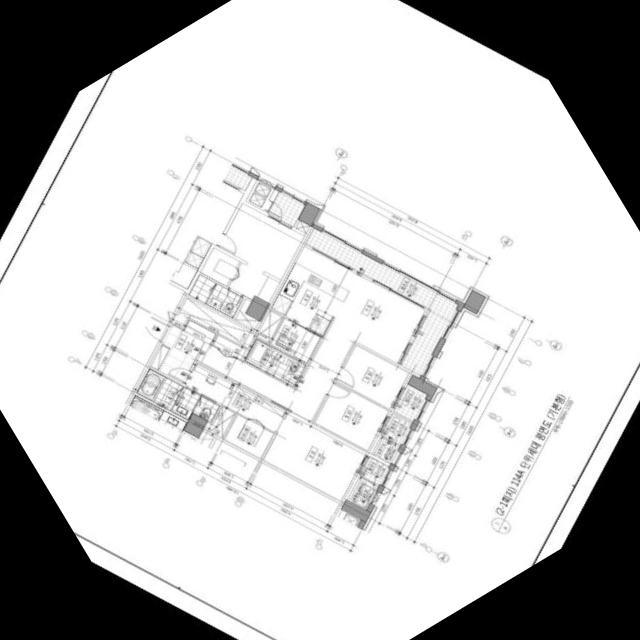background: (0, 0, 640, 640)
space_balconi: (306, 228, 459, 375), (394, 384, 427, 421), (381, 413, 412, 445), (360, 456, 389, 485)
space_bedroom: (264, 411, 367, 500), (315, 382, 389, 450), (337, 344, 409, 408)
space_dressroom: (186, 363, 286, 432), (225, 414, 274, 458)
space_front: (151, 320, 216, 383)
space_kitchen: (272, 245, 358, 335)
space_living_room: (201, 274, 426, 420)
space_multipurpose_space: (271, 318, 321, 362)
space_other: (172, 297, 283, 348), (204, 406, 236, 437), (348, 478, 377, 509)
space_outdoor_room: (372, 438, 399, 463)
space_toilet: (137, 368, 220, 422), (245, 338, 306, 387)
